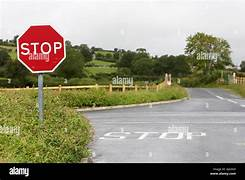stop: (17, 25, 66, 74)
